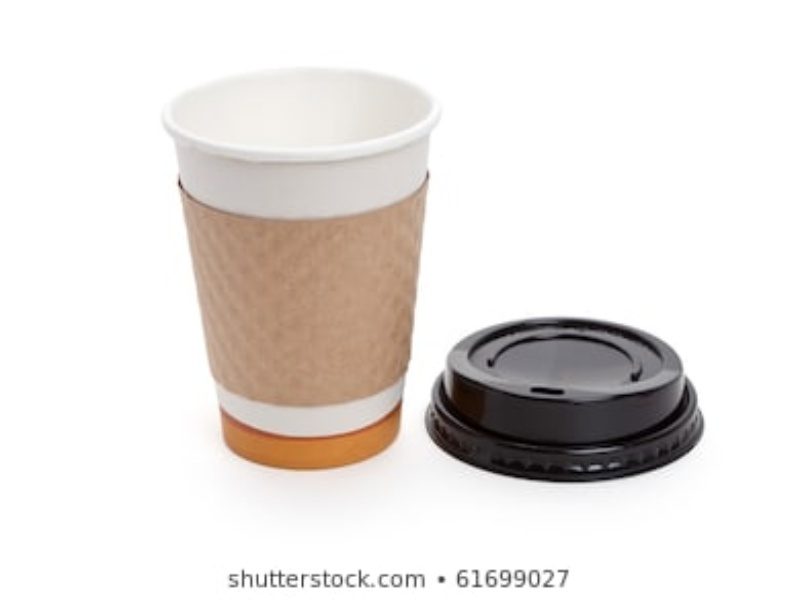coffee-lid: (422, 316, 706, 483)
